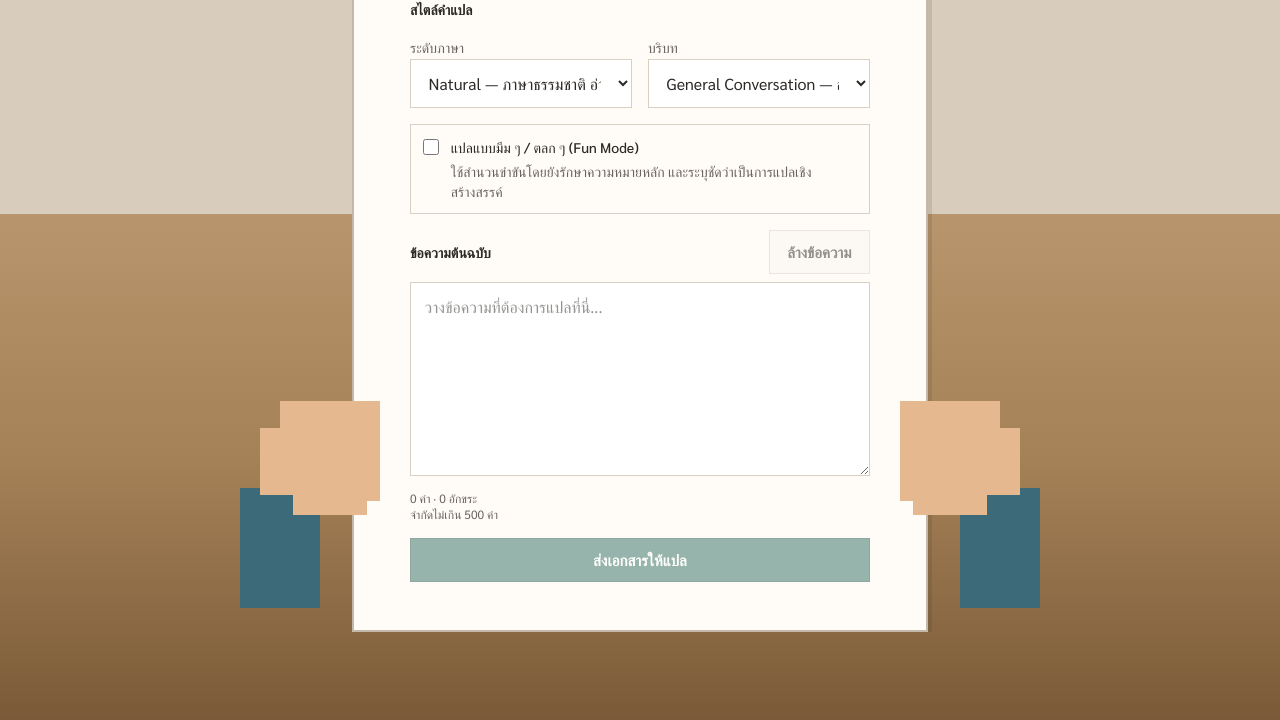
Test case: TranslationWorkspace › starts with an unavailable submit button and updates word and character counts
(page scrolled)
expect the button "ส่งเอกสารให้แปล" is disabled: met, box [410,538,870,582]
expect the text "0 คำ · 0 อักขระ จำกัดไม่เกิน 500 คำ" is shown: met, box [410,490,498,522]
Type "hello world" into the text box labelled "ข้อความต้นฉบับ" at (640, 379), box [410,282,870,476]
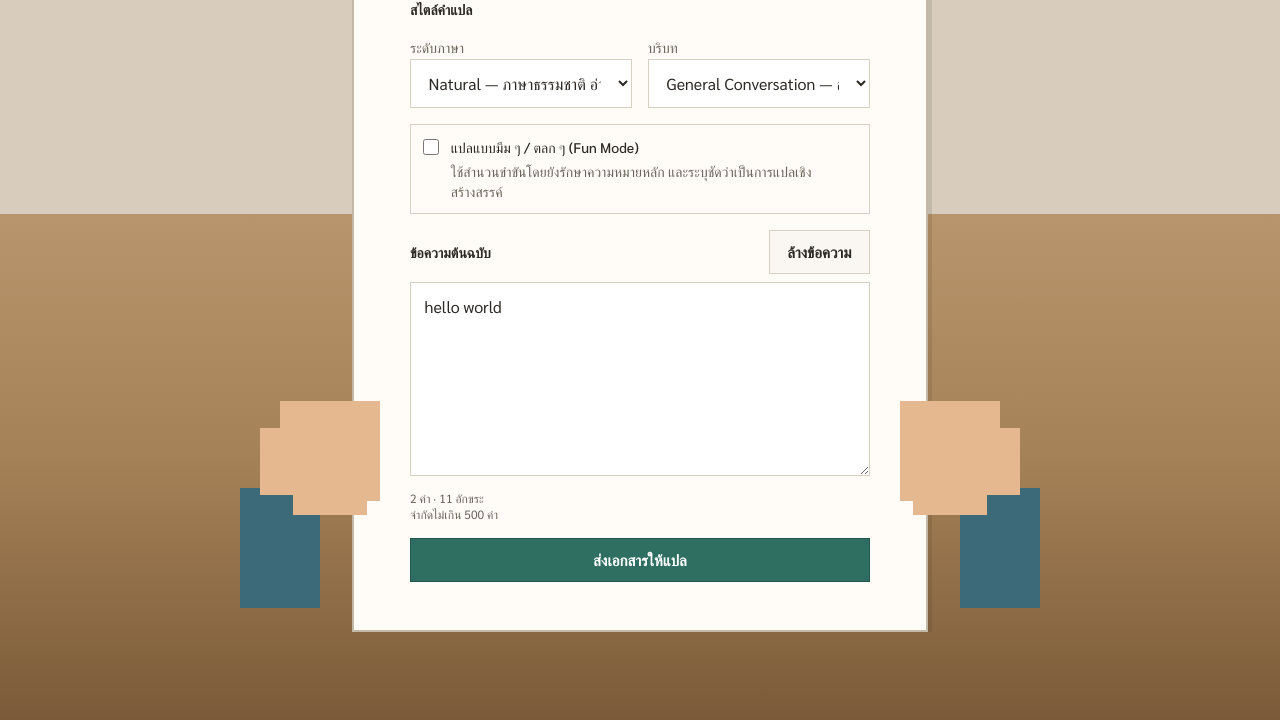
expect the text "2 คำ · 11 อักขระ จำกัดไม่เกิน 500 คำ" is shown: met, box [410,490,498,522]
expect the button "ส่งเอกสารให้แปล" is enabled: met, box [410,538,870,582]
